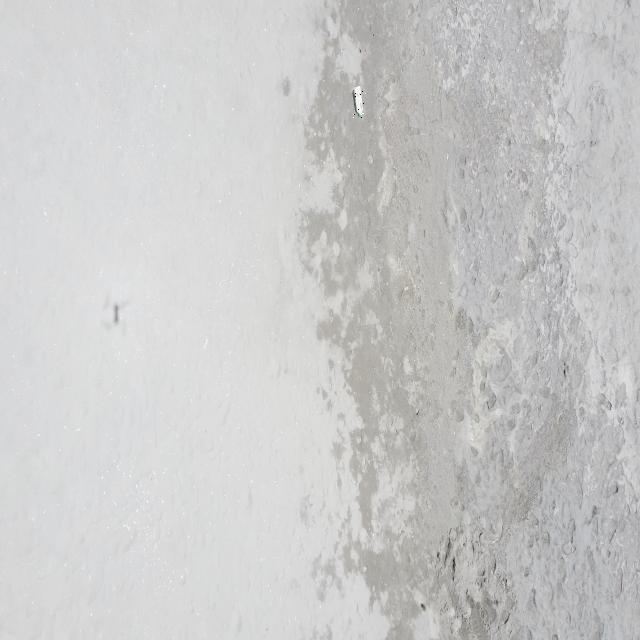plastic-bottle: (353, 86, 364, 120)
